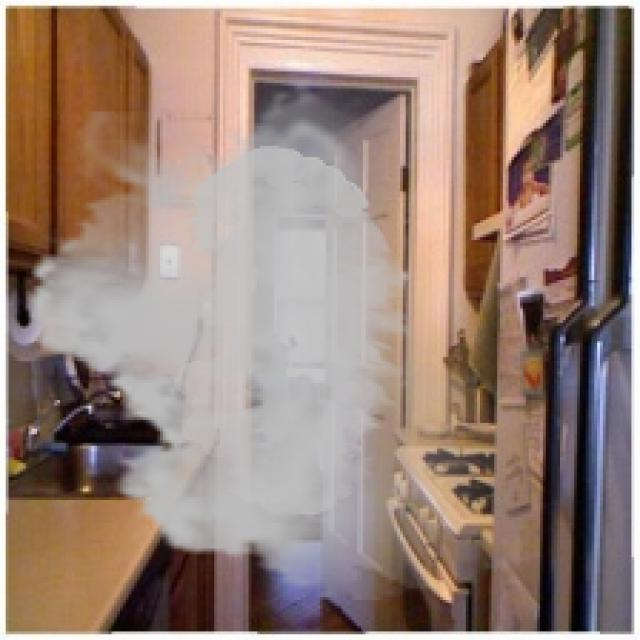Smoke: (6, 77, 568, 600)
